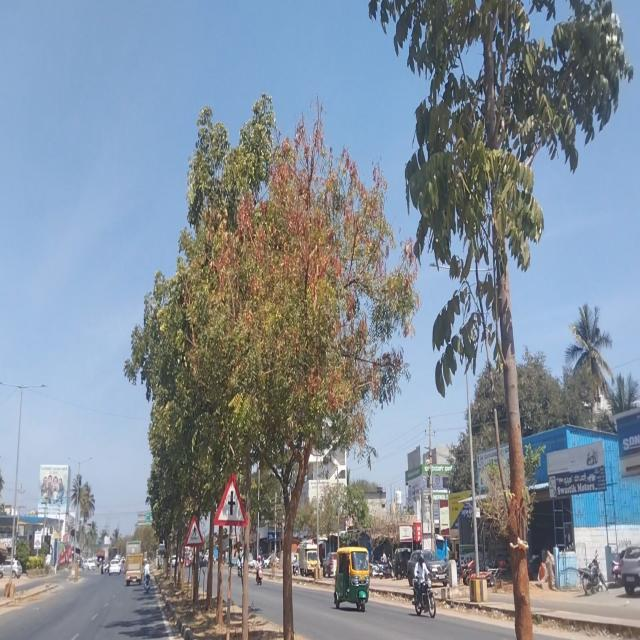bien_cam: (213, 471, 247, 528), (184, 513, 203, 547)
